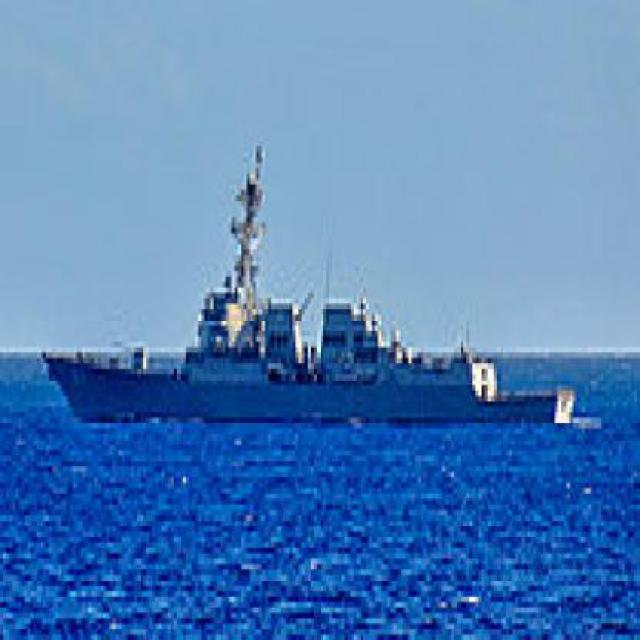warship2: (43, 115, 596, 446)
